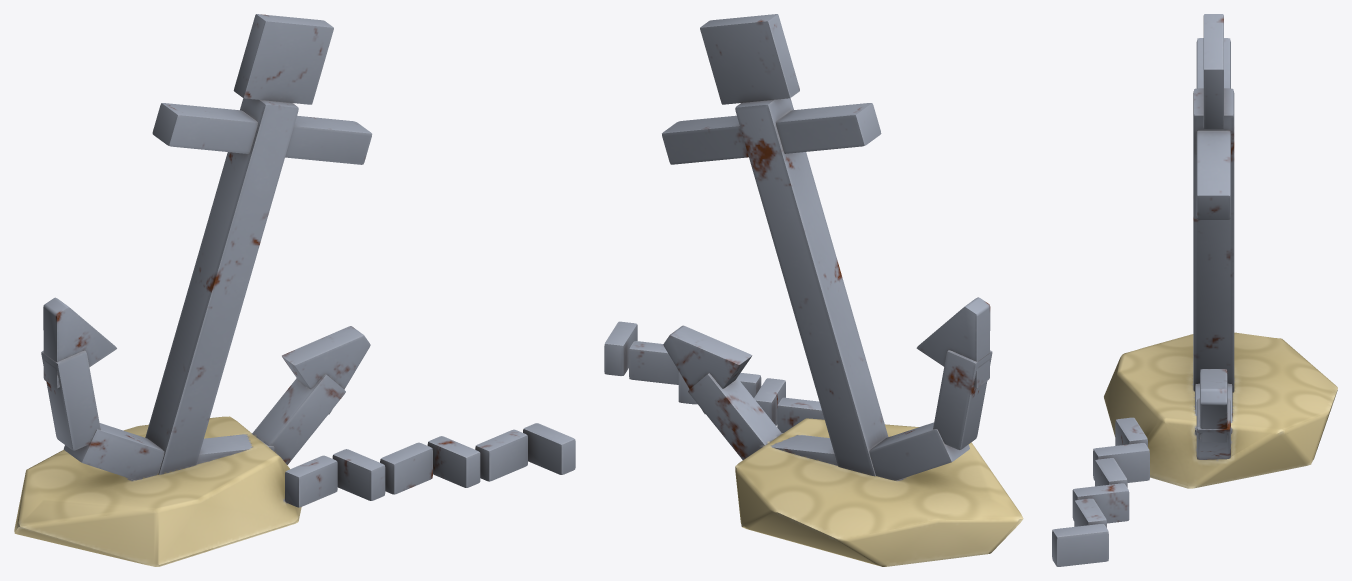
The model's file is Abysses_Ancre.fbx.
3 views of the same model, side by side, from view 1: azimuth 30°, elevation 25°; view 2: azimuth 150°, elevation 25°; view 3: azimuth 270°, elevation 25° (orthographic). The views are drawn at different scales.
Visible parts, largest first — view 1: Abysses_Ancre; view 2: Abysses_Ancre; view 3: Abysses_Ancre.
Boxes of the visible parts, box(x1,y1,x2,y2) form: Abysses_Ancre: box(14, 14, 575, 566); Abysses_Ancre: box(604, 14, 1023, 566); Abysses_Ancre: box(1052, 14, 1337, 566).
Size of the model in its own units: 794 by 743 by 418.
Materials: 1 (1 with a texture image).
